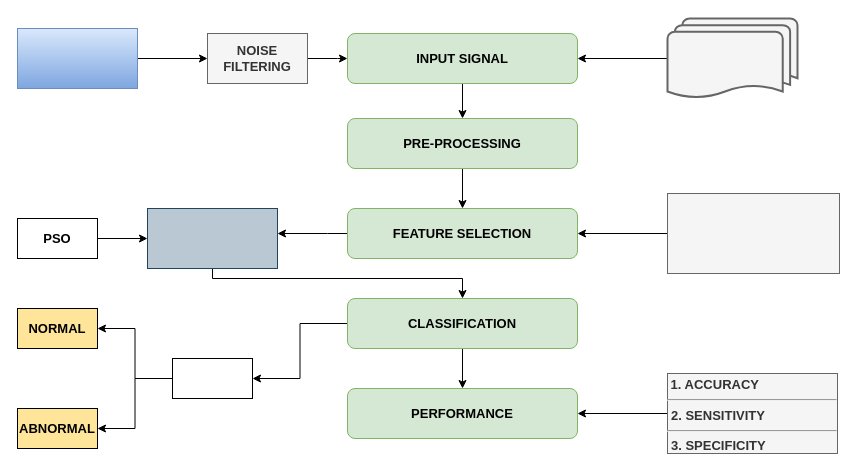
The diagram is 857 pixels wide and 471 high, and some of its shapes have lost their labels. Each missing label, with the centre of its shape:
1. MEAN 2. STANDARD DEVIATION 3. FFT: pixel 753 233
ECG DATASET: pixel 732 58
FEATURE OPTIMIZATION: pixel 212 238
KNN: pixel 212 378
NLMS FILTER: pixel 77 58
